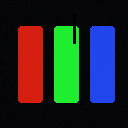4 line_v: (73, 13, 75, 43)
